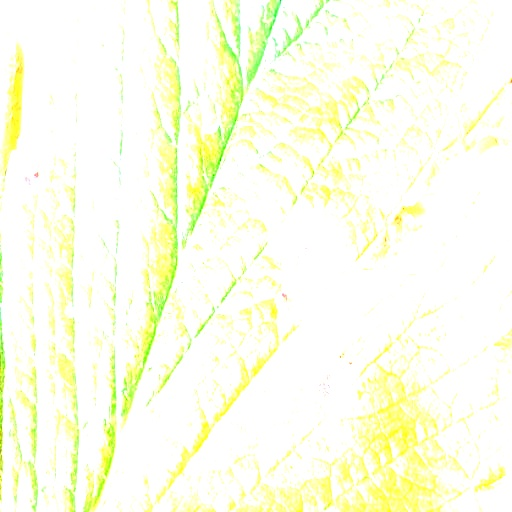Angular Leafspot: (182, 0, 511, 511)
